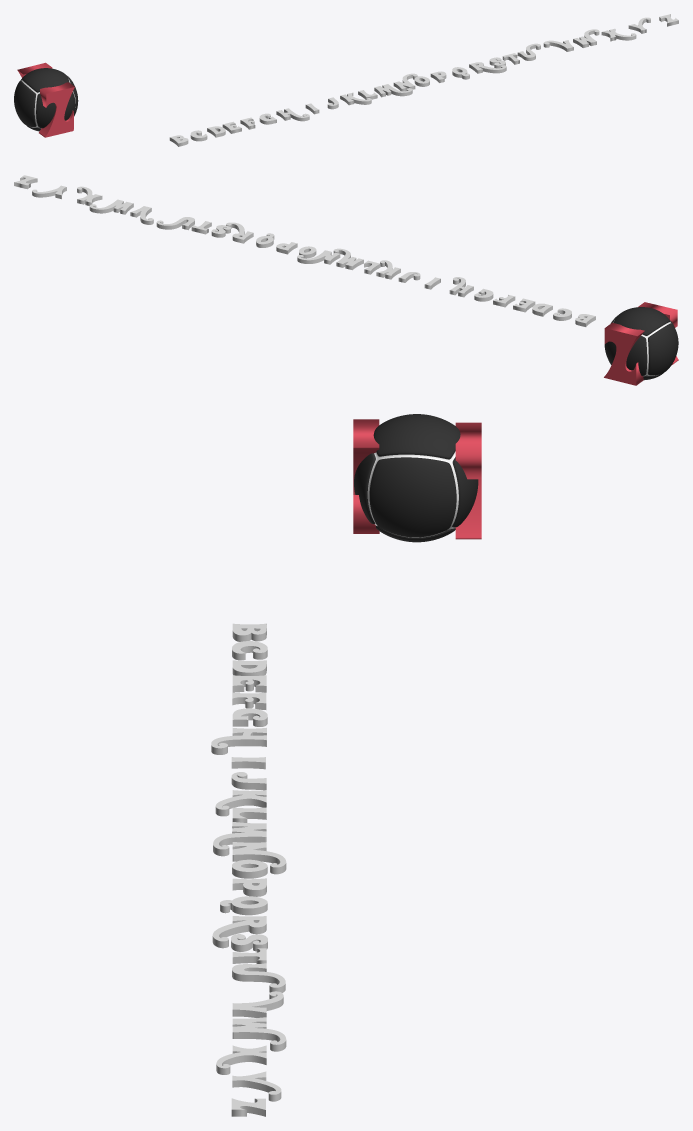
The picture shows the model from 3 angles, top to bottom: view 1: azimuth 30°, elevation 25°; view 2: azimuth 150°, elevation 25°; view 3: azimuth 270°, elevation 25°; orthographic projection. The views are drawn at different scales.
Visible parts, largest first — view 1: Cube.001, A, M, W, R, H, X, N, K, U, V; view 2: Cube.001, A.001, W, N, M, A, U; view 3: Cube.001, A.001, A, W, M, N.
Part boxes in pixels (x1=…): Cube.001: x1=14, y1=68, x2=78, y2=131; A: x1=39, y1=82, x2=74, y2=137; M: x1=374, y1=84, x2=412, y2=97; W: x1=573, y1=29, x2=599, y2=47; R: x1=469, y1=62, x2=506, y2=73; H: x1=276, y1=108, x2=309, y2=121; X: x1=601, y1=28, x2=636, y2=41; N: x1=393, y1=73, x2=417, y2=91; K: x1=340, y1=92, x2=371, y2=105; U: x1=517, y1=43, x2=540, y2=60; V: x1=543, y1=40, x2=573, y2=51; Cube.001: x1=604, y1=307, x2=678, y2=380; A.001: x1=604, y1=322, x2=644, y2=385; W: x1=89, y1=199, x2=133, y2=214; N: x1=297, y1=250, x2=340, y2=264; M: x1=333, y1=248, x2=363, y2=270; A: x1=638, y1=302, x2=678, y2=365; U: x1=156, y1=217, x2=194, y2=230; Cube.001: x1=354, y1=414, x2=478, y2=542; A.001: x1=455, y1=422, x2=481, y2=539; A: x1=353, y1=419, x2=379, y2=533; W: x1=232, y1=1017, x2=286, y2=1051; M: x1=213, y1=822, x2=266, y2=856; N: x1=232, y1=842, x2=286, y2=874.
Bounding box in the file's own units: 1885 × 185 × 360.
